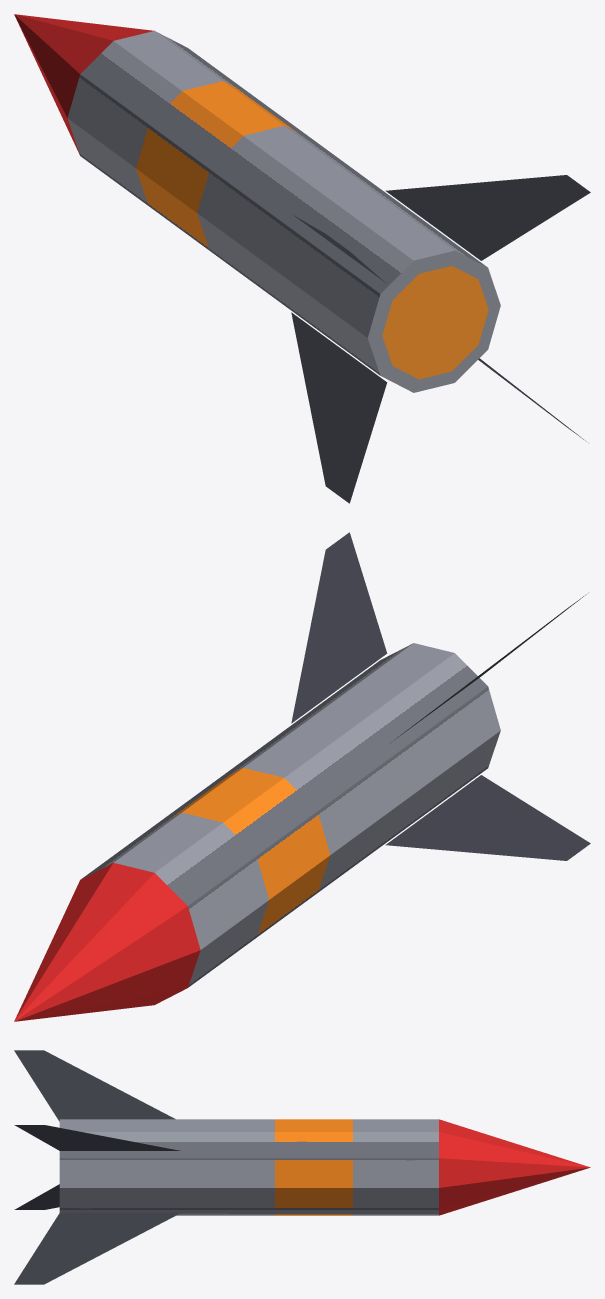
Rendered from rocket.obj.
3 renders of one model, top to bottom at view 1: azimuth 30°, elevation 25°; view 2: azimuth 150°, elevation 25°; view 3: azimuth 270°, elevation 25°, orthographic. The views are drawn at different scales.
Bounding box in the file's own units: 0.116 × 0.116 × 0.38.
